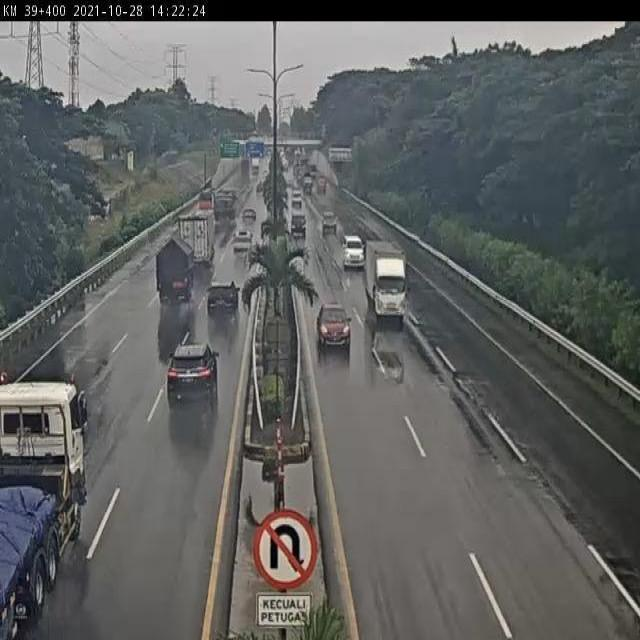car: (166, 338, 219, 410), (317, 303, 352, 349), (204, 277, 241, 319), (341, 233, 365, 268), (231, 227, 253, 256)
truck-l-: (174, 209, 218, 268)
truck-m-: (156, 235, 196, 302)
truck-s-: (363, 240, 409, 324)
truck-xl-: (0, 380, 86, 640)
